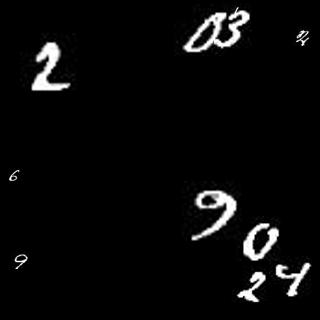four: (272, 261, 315, 298)
nine: (187, 185, 240, 244), (13, 248, 29, 271)
six: (8, 166, 22, 181)
three: (218, 7, 252, 50)
two: (29, 40, 72, 94), (236, 270, 267, 301), (293, 31, 311, 43)
zero: (181, 13, 222, 53), (238, 223, 281, 259)
